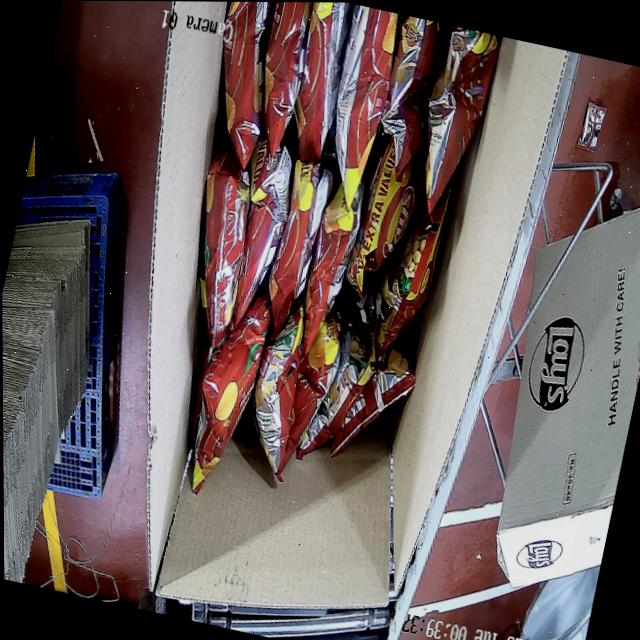MASALA: (126, 1, 504, 538)
